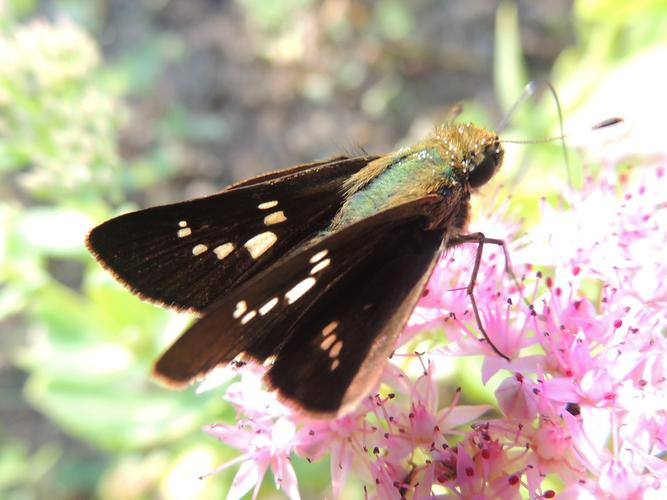Hesperiidae: (84, 78, 605, 423)
